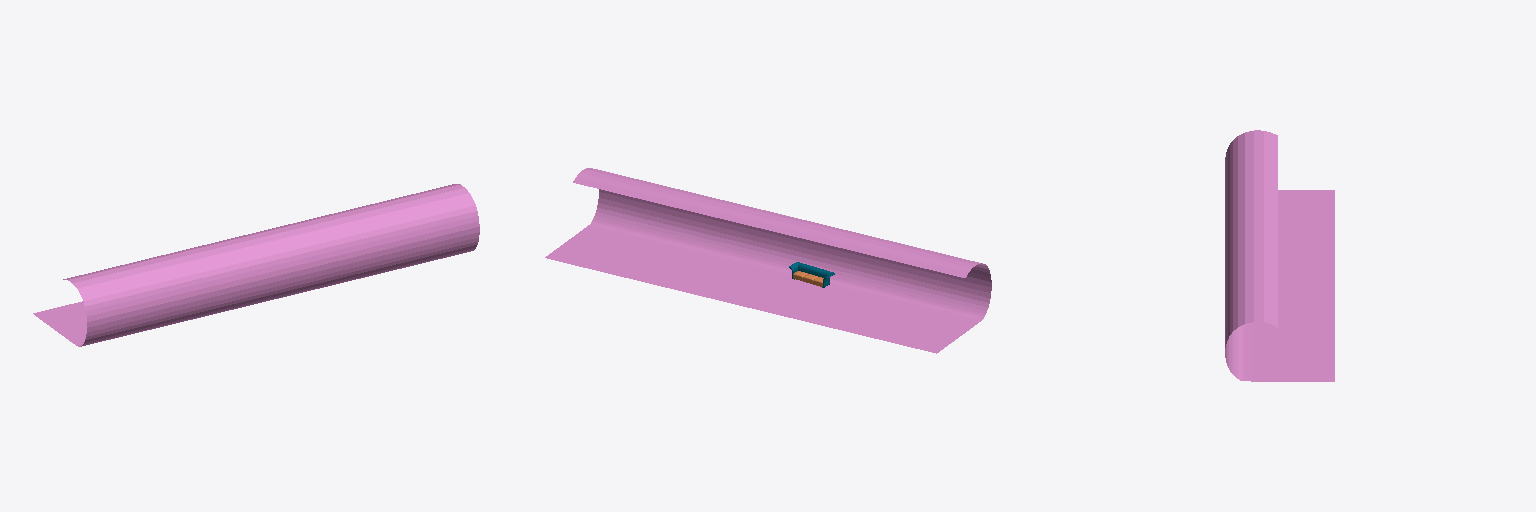
The model's file is sede.obj.
3 views of the same model, side by side, from view 1: azimuth 30°, elevation 25°; view 2: azimuth 150°, elevation 25°; view 3: azimuth 270°, elevation 25° (orthographic).
Visible parts, largest first — view 1: Fob; view 2: Fob; view 3: Fob.
Part boxes in pixels (x1,y1,x2,y2): Fob: (33, 184, 479, 346); Fob: (545, 168, 991, 353); Fob: (1225, 130, 1334, 381).
Bounding box in the file's own units: 26413 × 3825 × 6392.